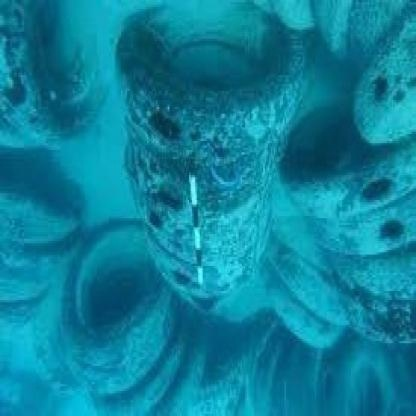tire: (121, 13, 312, 148), (277, 88, 416, 236), (60, 236, 178, 366), (2, 2, 92, 168)
